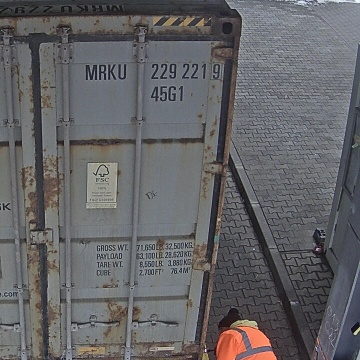serial_id: (85, 63, 220, 80)
